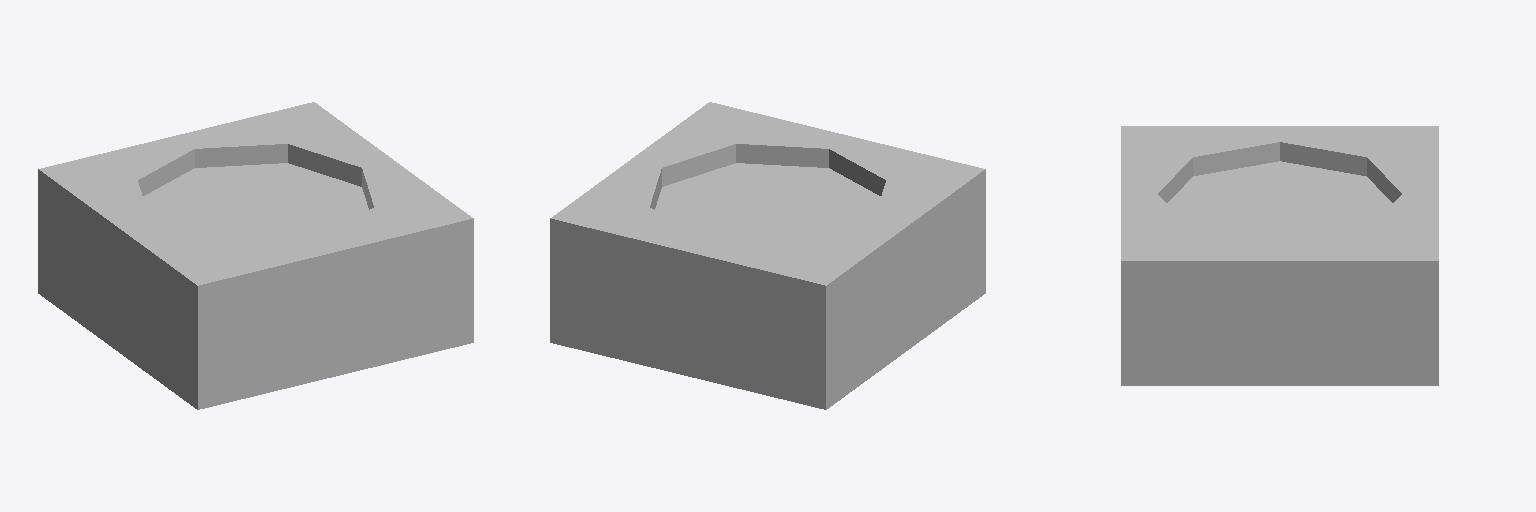
The model's file is Arcane_Reconstructor.obj.
3 renders of one model, left to right at view 1: azimuth 30°, elevation 25°; view 2: azimuth 150°, elevation 25°; view 3: azimuth 270°, elevation 25°, orthographic.
Visible parts, largest first — view 1: Main; view 2: Main; view 3: Main.
Boxes of the visible parts, box(x1,y1,x2,y2) form: Main: box(38, 102, 473, 409); Main: box(550, 102, 985, 409); Main: box(1121, 126, 1438, 385).
Bounding box in the file's own units: 1 × 0.4308 × 1.